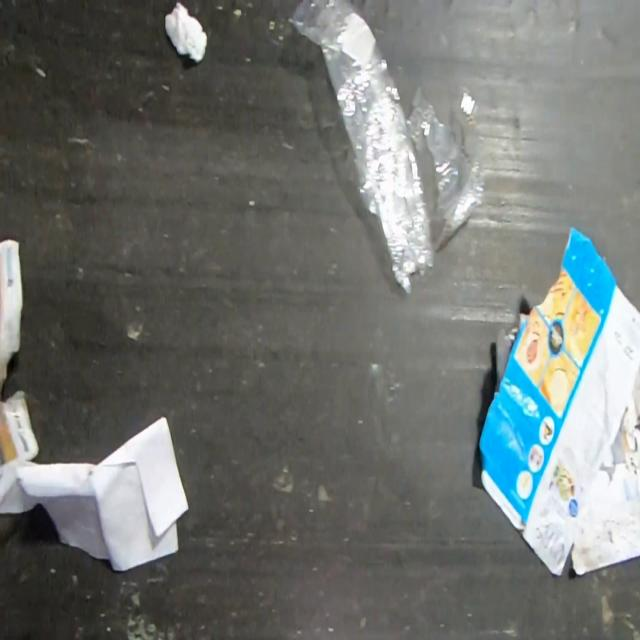soft_plastic: (284, 0, 488, 296)
